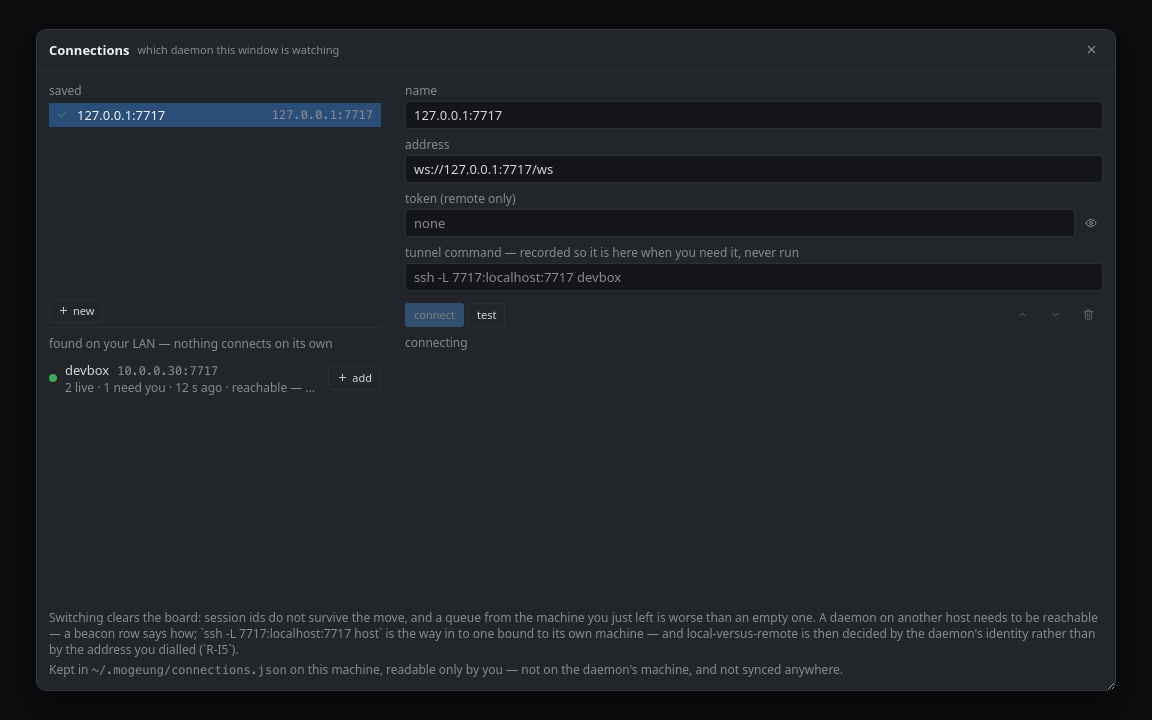
Test: found on your LAN › saves a found daemon on add, selects it, and dials nothing
Expected: the text "found on your LAN — nothing connects on its own" is shown, left=49, top=336, right=381, bottom=352
Click the button titled "save this daemon" at (355, 378), box left=328, top=366, right=381, bottom=390
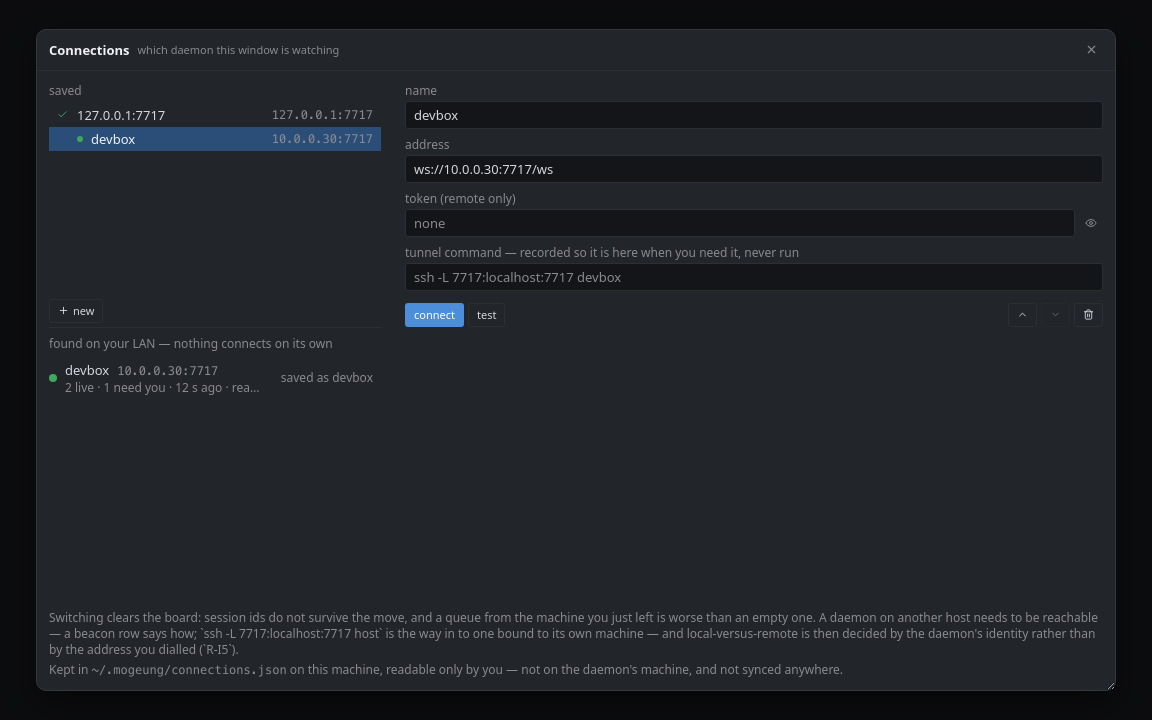
Expected: the password field named "token for devbox" is empty, left=405, top=209, right=1075, bottom=237
Result: the field named "address for devbox" holds "ws://10.0.0.30:7717/ws" at left=405, top=155, right=1103, bottom=183
